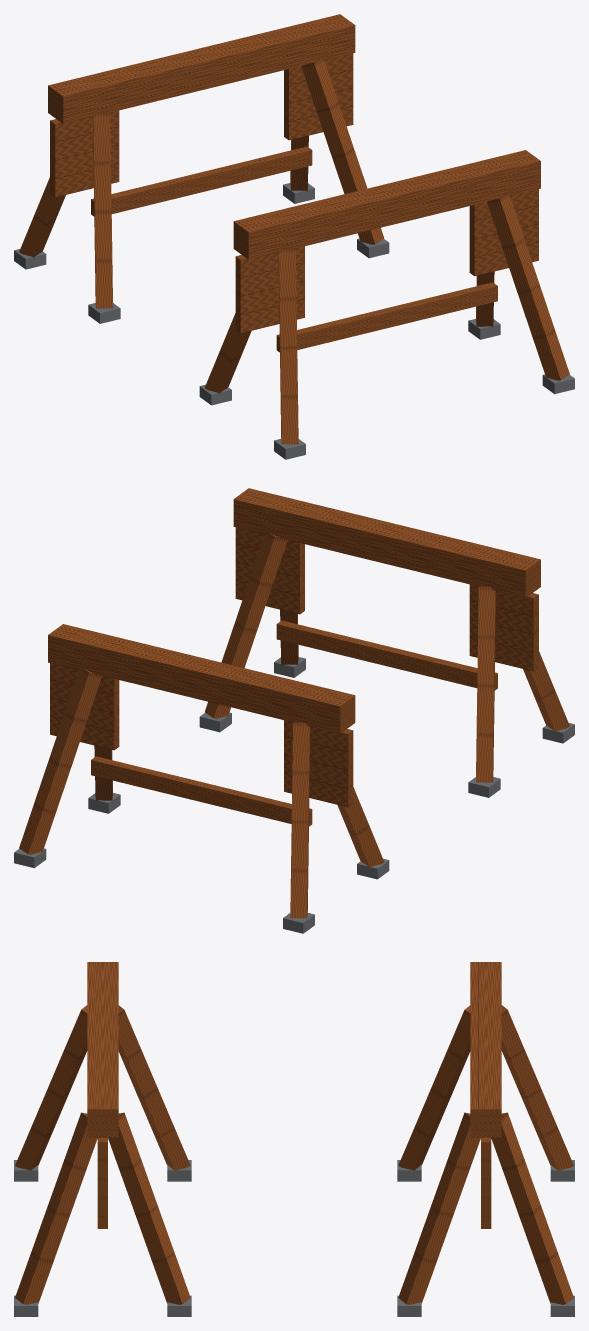
The model's file is woodworking-workshop-and-joinery-woodworking-workshop--dbd7bab7__34252.glb.
The picture shows the model from 3 angles, top to bottom: view 1: azimuth 30°, elevation 25°; view 2: azimuth 150°, elevation 25°; view 3: azimuth 270°, elevation 25°; orthographic projection. The views are drawn at different scales.
Parts seen in each view (by area): view 1: woodworking-workshop-and-joinery-sawhorse-pair; view 2: woodworking-workshop-and-joinery-sawhorse-pair; view 3: woodworking-workshop-and-joinery-sawhorse-pair.
Boxes of the visible parts, x1=… form: woodworking-workshop-and-joinery-sawhorse-pair: x1=14, y1=14, x2=574, y2=459; woodworking-workshop-and-joinery-sawhorse-pair: x1=14, y1=488, x2=574, y2=933; woodworking-workshop-and-joinery-sawhorse-pair: x1=14, y1=962, x2=574, y2=1316.
Bounding box in the file's own units: 1.02 × 0.66 × 1.61.
Materials: 2 (1 with a texture image).
